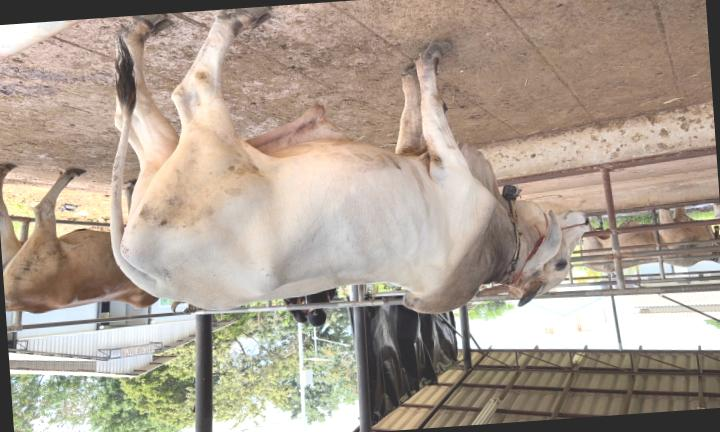Brahman: (110, 6, 586, 313)
